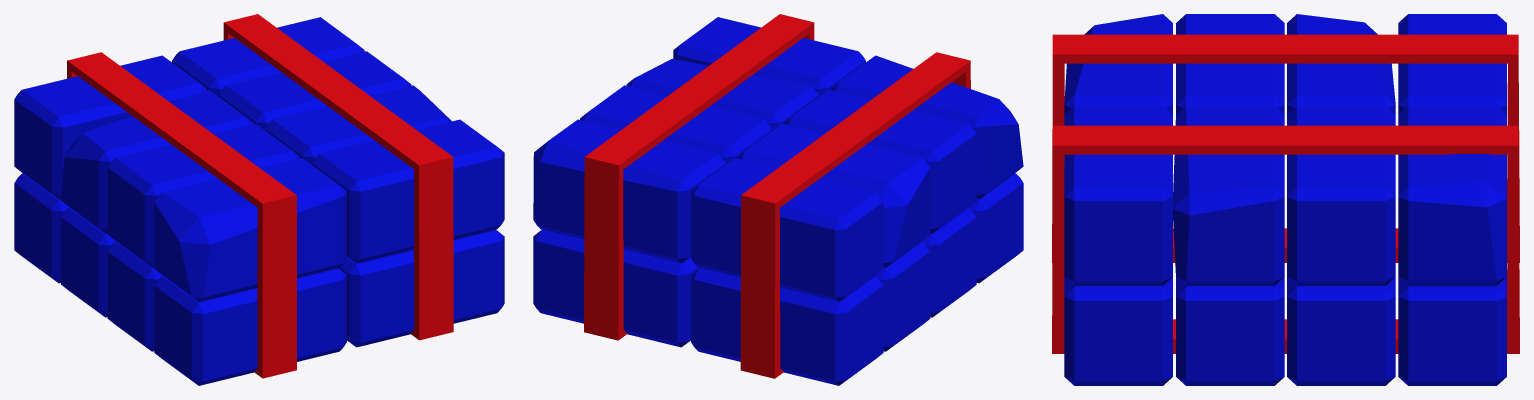
The model's file is SM_Small_QuarryStack2.fbx.
The picture shows the model from 3 angles, left to right: view 1: azimuth 30°, elevation 25°; view 2: azimuth 150°, elevation 25°; view 3: azimuth 270°, elevation 25°; orthographic projection. The views are drawn at different scales.
Visible parts, largest first — view 1: SM_Small_QuarryStack2; view 2: SM_Small_QuarryStack2; view 3: SM_Small_QuarryStack2.
Boxes of the visible parts, x1,y1,x2,y2 form: SM_Small_QuarryStack2: [14, 14, 504, 385]; SM_Small_QuarryStack2: [533, 14, 1023, 385]; SM_Small_QuarryStack2: [1052, 14, 1519, 385].
Bounding box in the file's own units: 141 × 73.42 × 149.
